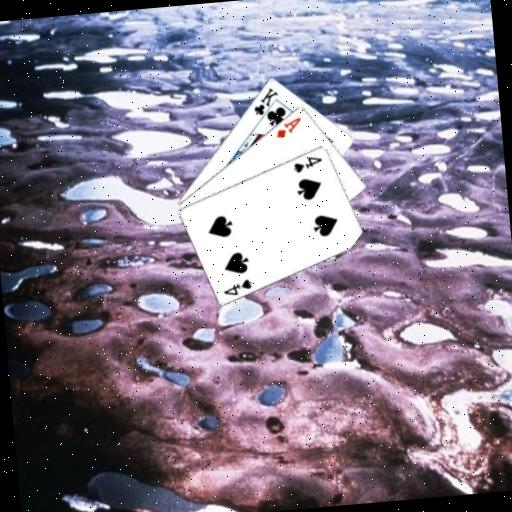4S: (289, 152, 324, 174), (220, 276, 255, 298)
AD: (272, 114, 304, 140)
KC: (250, 84, 283, 124)
